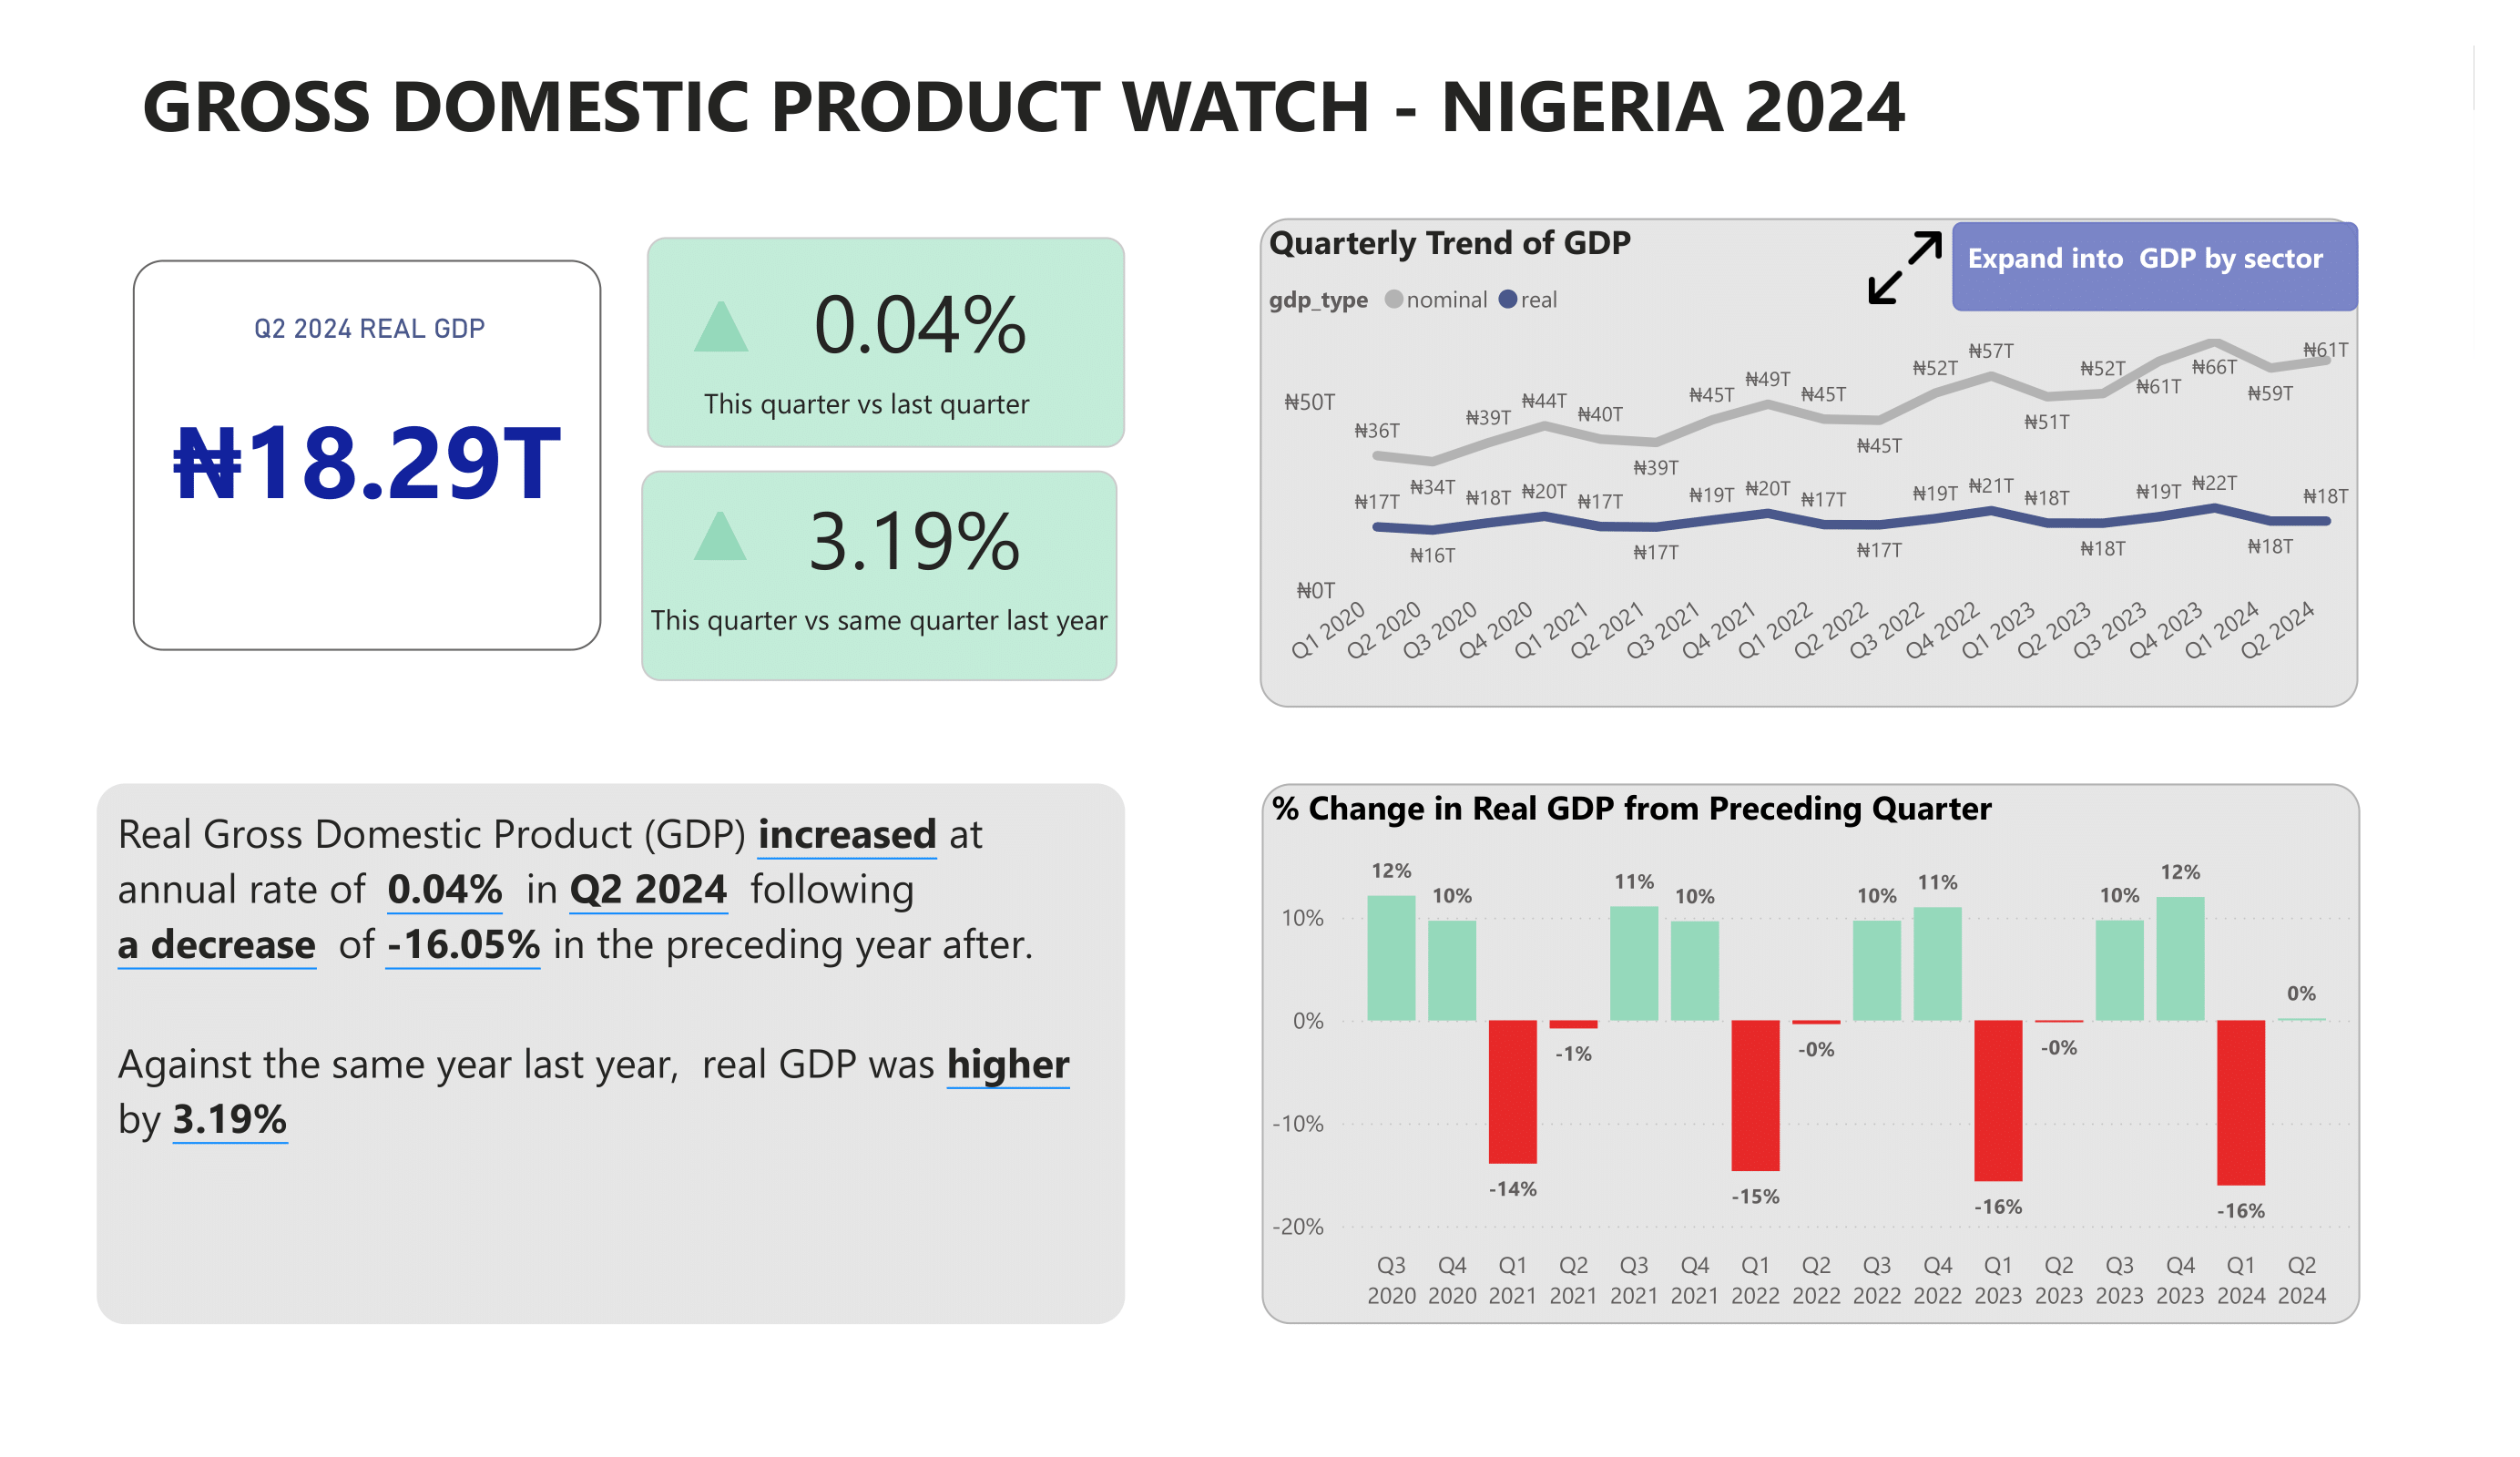

What the dashboard file says about the page in this screenshot:
{"tool":"powerbi","page":{"name":"Page 1","canvas":[1280,720],"ordinal":0},"visuals":[{"type":"image","box":[950.8,92.2,52.6,48],"z":0,"group":"g4"},{"type":"textbox","title":"qnq background","box":[313.6,100.9,240,110.9],"z":0,"group":"g2"},{"type":"card","title":"current real GDP","fields":{"Values":["Measures_.current real gdp"]},"box":[46.1,112.8,246.7,205.6],"z":0,"group":"g1"},{"type":"textbox","title":"yoy background","box":[316,224.2,237.3,110.9],"z":0,"group":"g3"},{"type":"shape","box":[640.8,388.8,578.9,285.1],"z":0},{"type":"shape","box":[640,91.2,579.2,257.4],"z":1000},{"type":"textbox","box":[1003.1,92.3,213.7,46.5],"z":1000,"group":"g4"},{"type":"card","title":"% qnq","fields":{"Values":["Measures_.% qnq"]},"box":[368.5,107.9,164.4,73.5],"z":1000,"group":"g2"},{"type":"multiRowCard","title":"Q1 2022 real gdp","fields":{"Values":["Measures_.current quarter text"]},"box":[105.1,136,157.3,41.1],"z":1000,"group":"g1"},{"type":"card","title":"% yoy","fields":{"Values":["Measures_.% yoy"]},"box":[363.4,219.9,178,76.9],"z":1000,"group":"g3"},{"type":"textbox","title":"Current real GDP layout","box":[27.4,92.2,541.4,256.3],"z":2000},{"type":"textbox","title":"qnq text","box":[337.6,172.8,190.4,35.9],"z":2000,"group":"g2"},{"type":"textbox","title":"yoy text","box":[316.5,286.5,239.5,54.7],"z":2000,"group":"g3"},{"type":"group","id":"g1","title":"Current Real GDP ","box":[46.1,112.8,246.7,205.6],"z":3000},{"type":"card","title":"qnq indicator","fields":{"Values":["Measures_.qnq indicator"]},"box":[313.6,129.7,74.1,36],"z":3000,"group":"g2"},{"type":"card","title":"yoy indicator","fields":{"Values":["Measures_.%yoy indicator"]},"box":[318.1,240.4,74.4,35.9],"z":3000,"group":"g3"},{"type":"group","id":"g2","title":"qnq analysis ","box":[313.6,100.9,240,110.9],"z":4000},{"type":"group","id":"g3","title":"yoy analysis ","box":[316,219.9,240,121.3],"z":5000},{"type":"textbox","box":[27.4,388.8,541.4,285.1],"z":6000},{"type":"lineChart","title":"Quarterly Trend of GDP ","fields":{"Category":["date table.QuarterYear"],"Series":["gdp.gdp_type"],"Y":["Measures_.gdp"]},"box":[640,91.2,579.2,255.6],"z":7000},{"type":"clusteredColumnChart","title":"% Change in Real GDP from Preceding Quarter","fields":{"Y":["Measures_.% qnq"],"Category":["date table.QuarterYear"]},"box":[640.8,388.8,578.9,285.1],"z":8000},{"type":"group","id":"g4","title":"Expand into","box":[950.8,92.2,266.4,48.3],"z":9000},{"type":"textbox","title":"Dashboard Title","box":[46.1,0,980.6,72],"z":10000}]}

Visuals, with their boxes on the page's 1280x720 design canvas (x1, y1, x2, y2). These are canvas units, not pixel positions in the 2520x1457 screenshot, which may show the page scaled, cropped or inside an application window:
image: bbox=(951, 92, 1003, 140)
"qnq background" textbox: bbox=(314, 101, 554, 212)
"current real GDP" card: bbox=(46, 113, 293, 318)
"yoy background" textbox: bbox=(316, 224, 553, 335)
shape: bbox=(641, 389, 1220, 674)
shape: bbox=(640, 91, 1219, 349)
textbox: bbox=(1003, 92, 1217, 139)
"% qnq" card: bbox=(368, 108, 533, 181)
"Q1 2022 real gdp" multiRowCard: bbox=(105, 136, 262, 177)
"% yoy" card: bbox=(363, 220, 541, 297)
"Current real GDP layout" textbox: bbox=(27, 92, 569, 348)
"qnq text" textbox: bbox=(338, 173, 528, 209)
"yoy text" textbox: bbox=(316, 286, 556, 341)
"Current Real GDP " group: bbox=(46, 113, 293, 318)
"qnq indicator" card: bbox=(314, 130, 388, 166)
"yoy indicator" card: bbox=(318, 240, 392, 276)
"qnq analysis " group: bbox=(314, 101, 554, 212)
"yoy analysis " group: bbox=(316, 220, 556, 341)
textbox: bbox=(27, 389, 569, 674)
"Quarterly Trend of GDP " lineChart: bbox=(640, 91, 1219, 347)
"% Change in Real GDP from Preceding Quarter" clusteredColumnChart: bbox=(641, 389, 1220, 674)
"Expand into" group: bbox=(951, 92, 1217, 140)
"Dashboard Title" textbox: bbox=(46, 0, 1027, 72)
